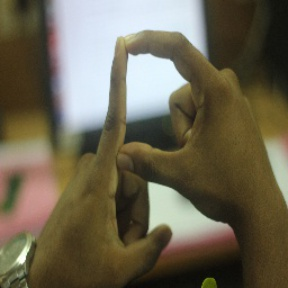D: (94, 28, 226, 189)
